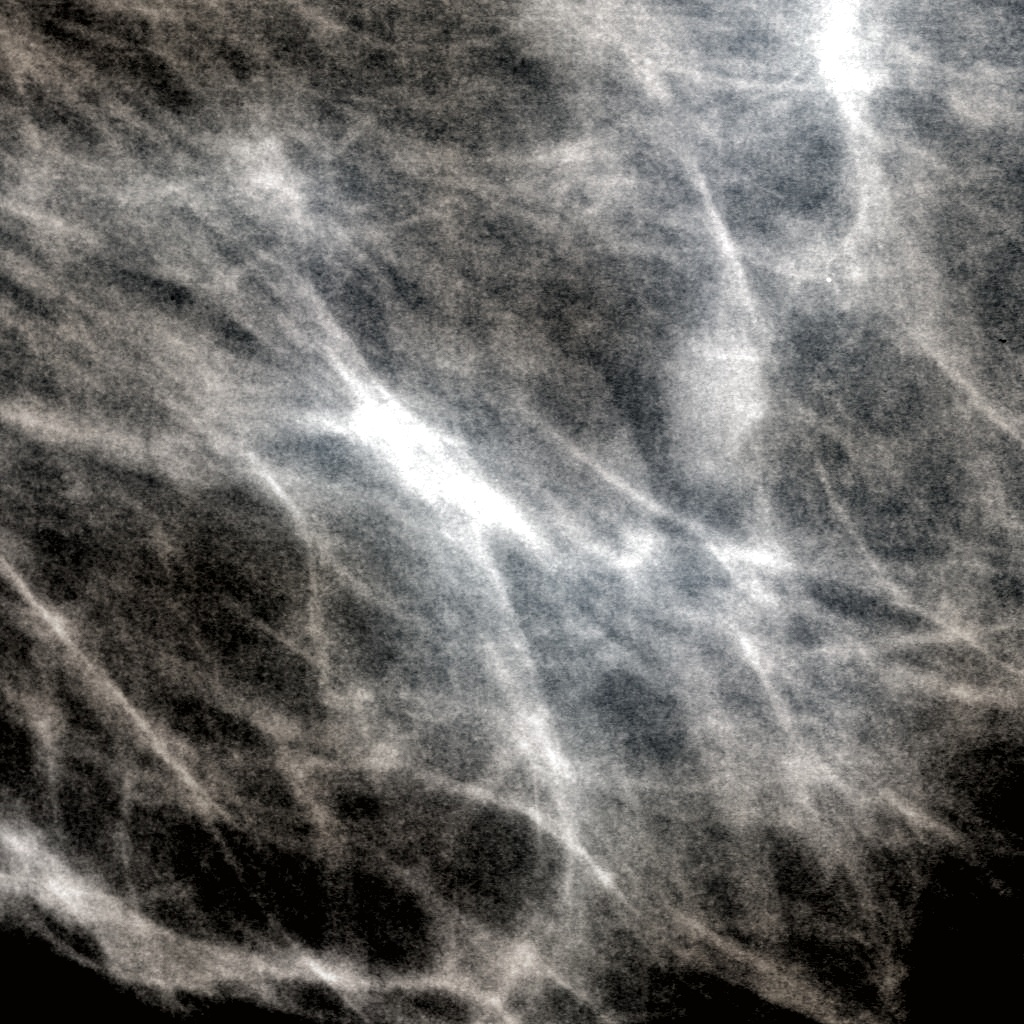tumor: (343, 382, 681, 642)
